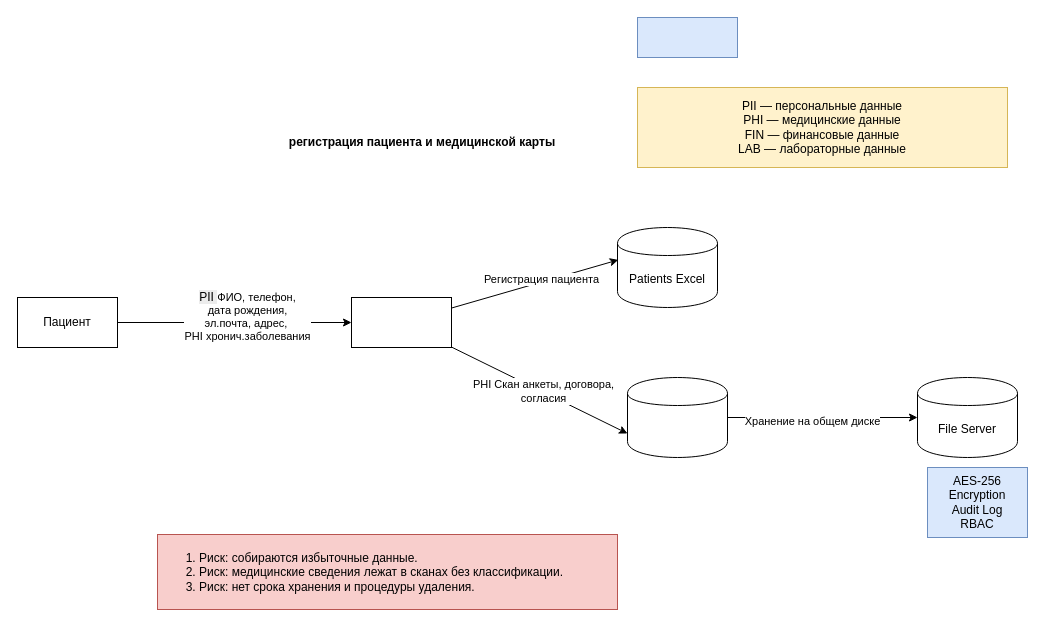
This 1045x627 diagram has some shape labels left out. The shapes that lost their labels are listed below. From the top down, each one's centre as x and y in pixels, then its label:
point (687, 37): To-Be меры
point (401, 322): Администратор
point (677, 417): Сканы документов
